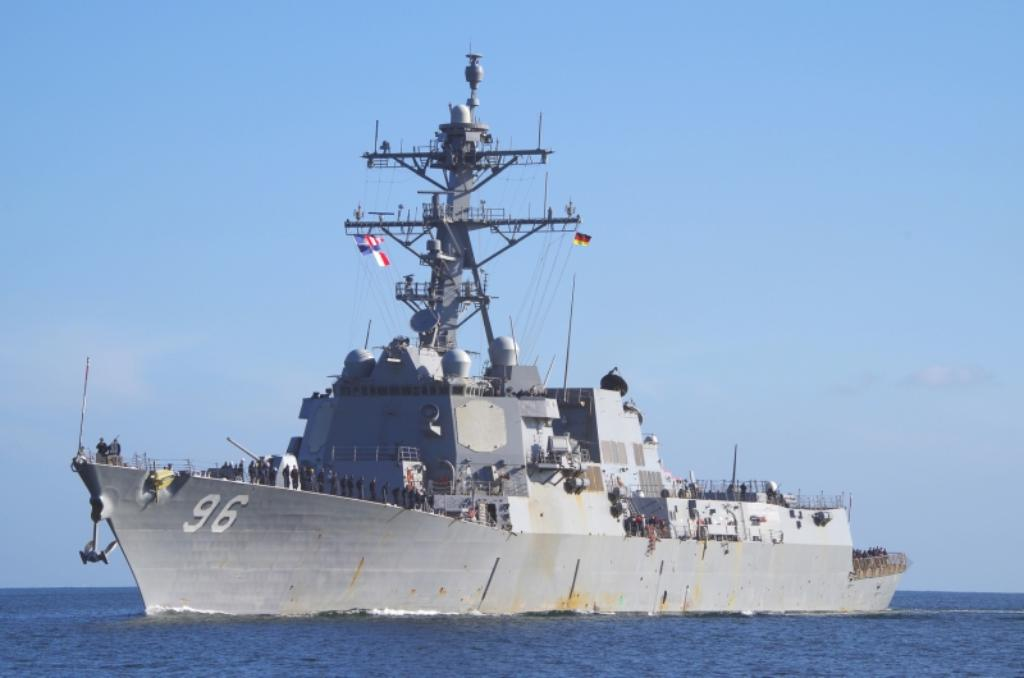Warship: (70, 33, 910, 619)
